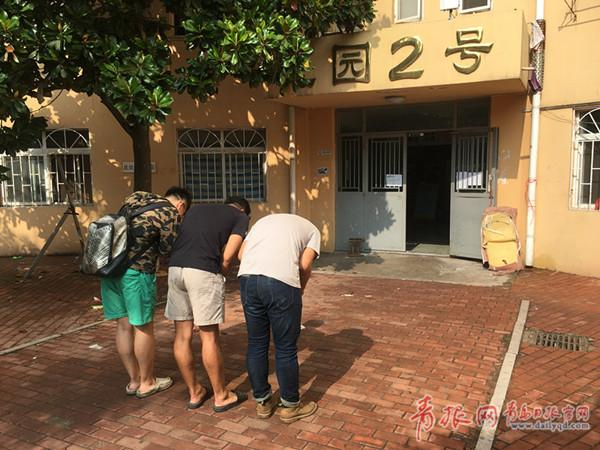bending: (92, 182, 182, 402), (248, 209, 320, 423), (184, 191, 243, 416)
